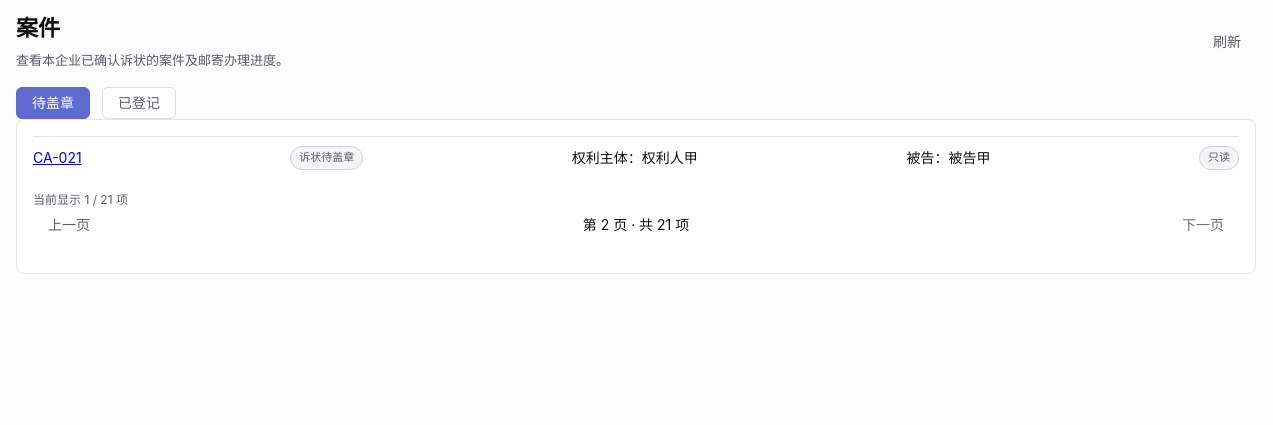
Scenario: client case pages › clears old cases and pagination on HTTP 401 and can retry the same page
Click the button "刷新" at (1227, 42), box [1198, 26, 1256, 58]
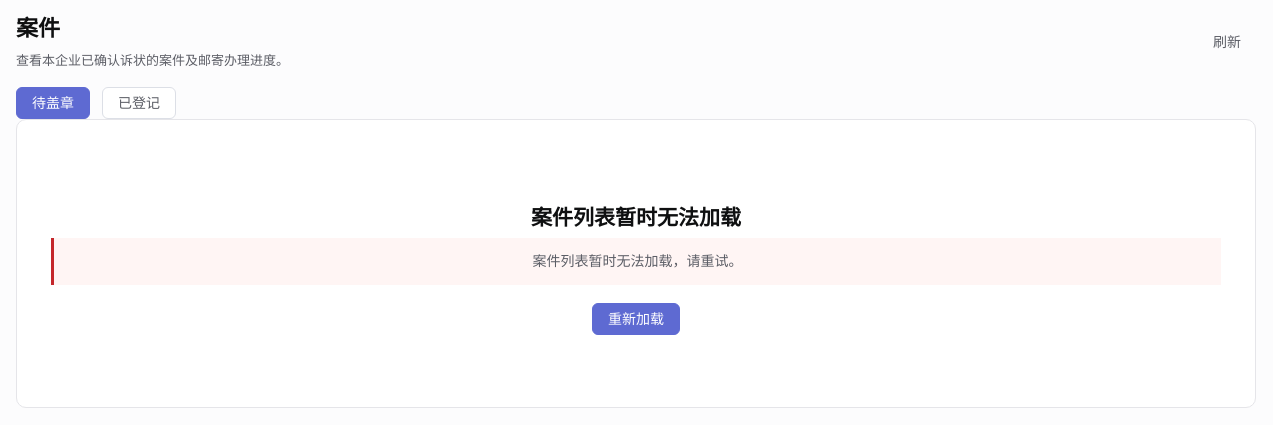
Result: the message "案件列表暂时无法加载，请重试。" is shown at [51, 238, 1221, 285]
Result: the text "CA-021" is gone
Click the button "重新加载" at (636, 319), box [592, 303, 680, 335]
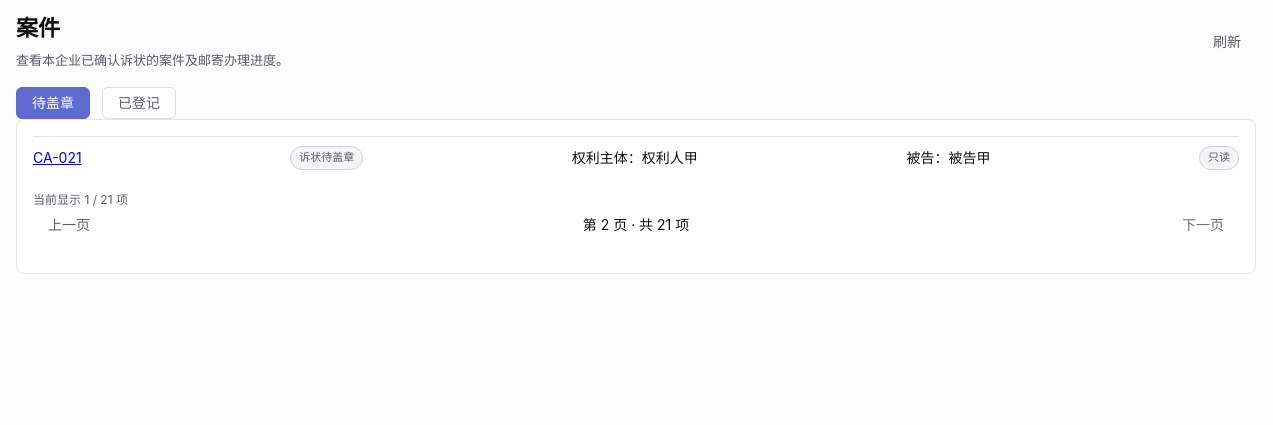
Result: the text "CA-021" is shown at [33, 147, 82, 169]
